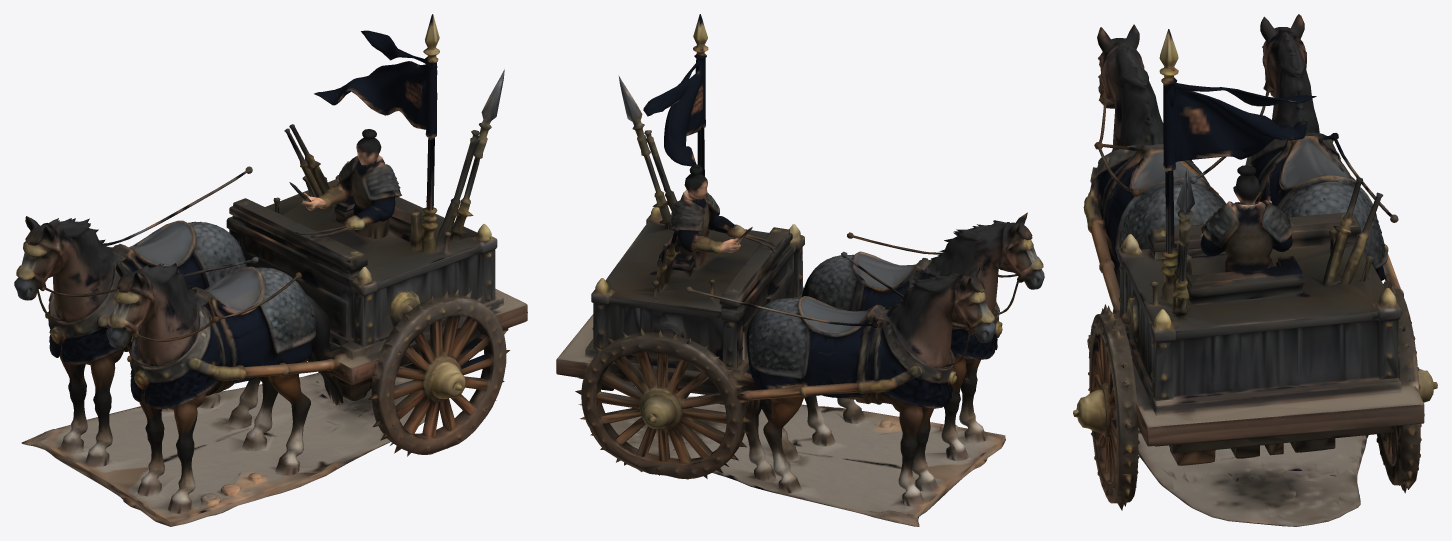
File: chariot-black-hy3-v1.glb
The picture shows the model from 3 angles, left to right: view 1: azimuth 30°, elevation 25°; view 2: azimuth 150°, elevation 25°; view 3: azimuth 270°, elevation 25°; orthographic projection. The views are drawn at different scales.
Visible parts, largest first — view 1: node_0; view 2: node_0; view 3: node_0.
Boxes of the visible parts, box(x1,y1,x2,y2) form: node_0: box(14, 14, 527, 526); node_0: box(556, 14, 1044, 526); node_0: box(1073, 14, 1437, 526).
Size of the model in its own units: 2.2 by 1.94 by 1.33.
Materials: 1 (1 with a texture image).
